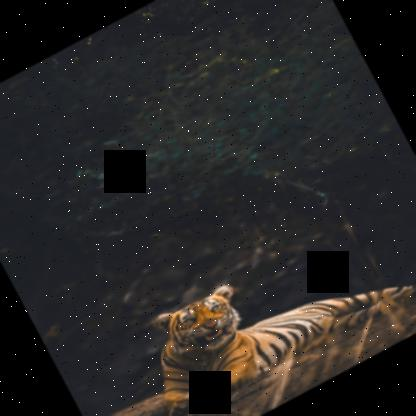Panthera tigris: (122, 181, 415, 415)
